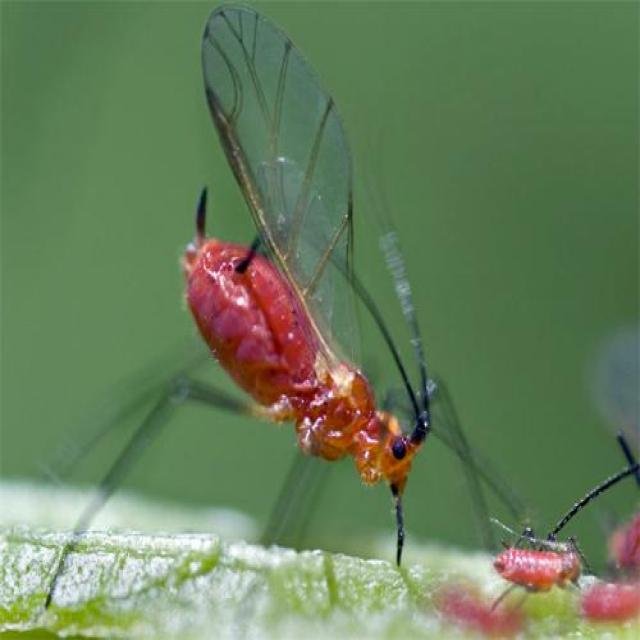Aphids: (148, 9, 495, 593)
